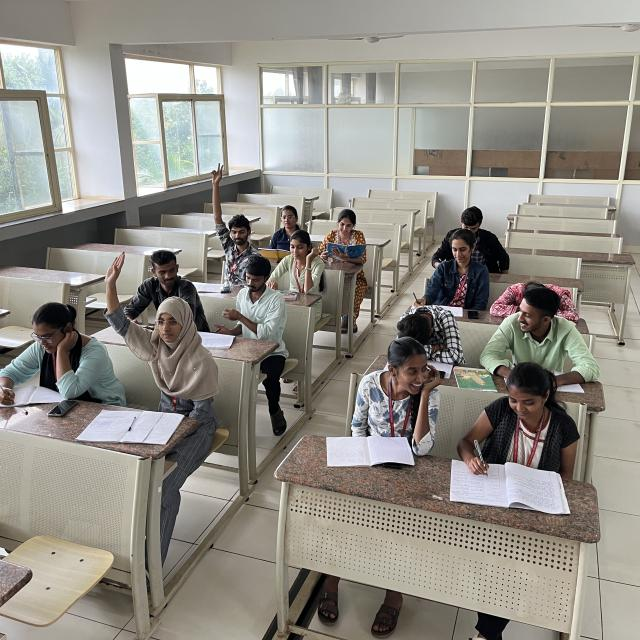Hand Rising: (101, 244, 208, 400), (204, 152, 263, 283)
Reading: (309, 204, 371, 278), (280, 228, 320, 307), (254, 199, 302, 263)
Sleeping: (360, 299, 464, 361), (494, 264, 599, 324)
Writing: (463, 368, 569, 496), (1, 290, 103, 418), (404, 226, 469, 307)
